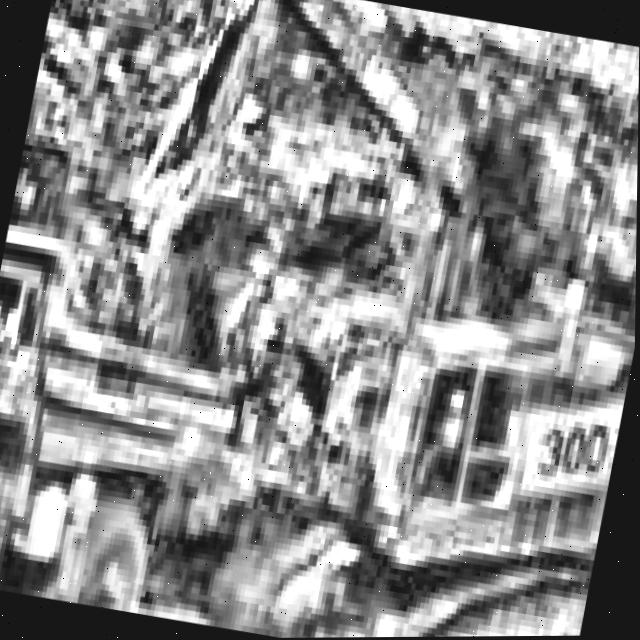dump_truck: (0, 171, 284, 626)
excavator: (50, 0, 640, 640)
